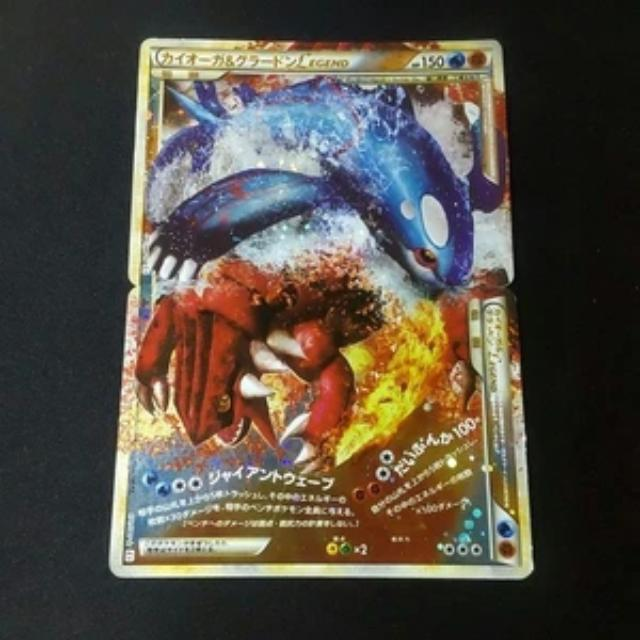Card: (106, 284, 538, 582), (124, 35, 519, 288)
Name: (155, 48, 354, 72), (478, 305, 510, 395)
